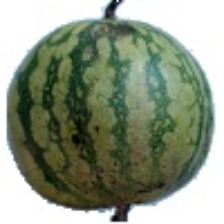watermelon: (11, 4, 182, 197)
